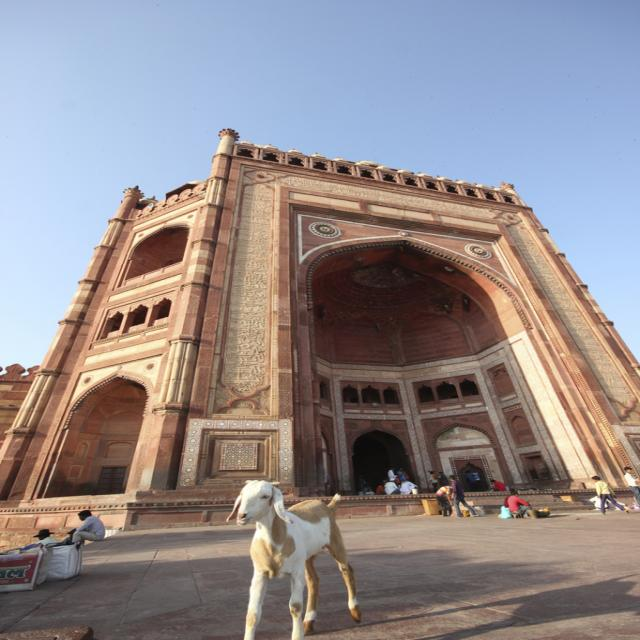Goat: (225, 479, 355, 629)
